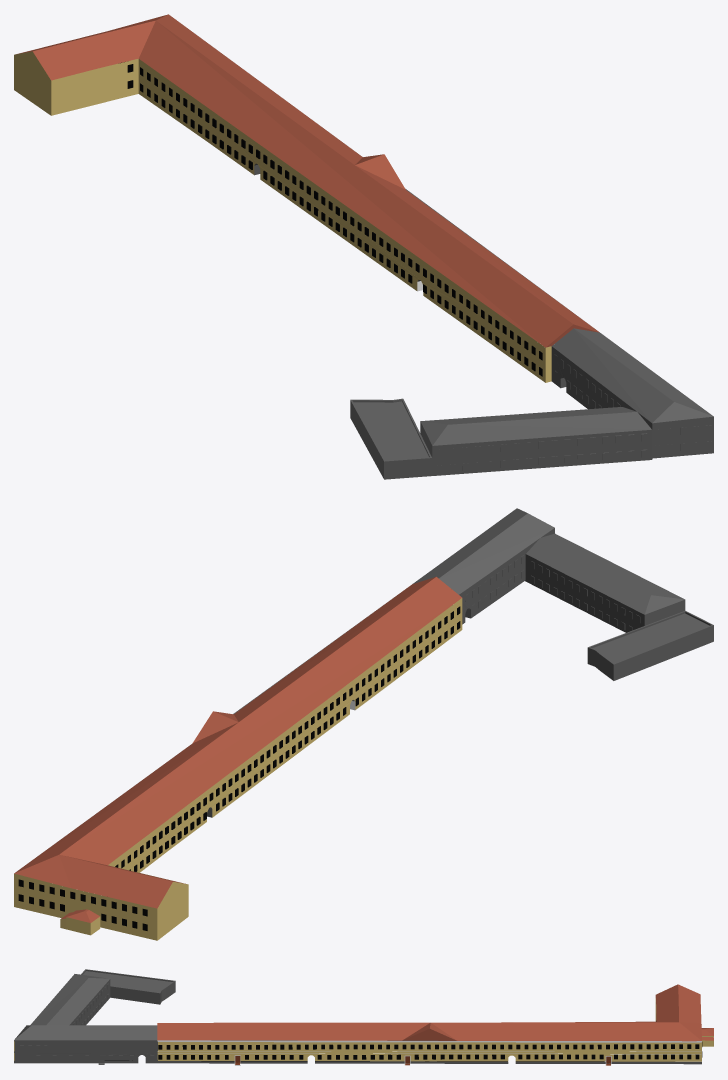
File: prismest.gltf
The picture shows the model from 3 angles, top to bottom: view 1: azimuth 30°, elevation 25°; view 2: azimuth 150°, elevation 25°; view 3: azimuth 270°, elevation 25°; orthographic projection. The views are drawn at different scales.
Visible parts, largest first — view 1: Base, Base 2, Base.002, Windows Back, Windows Front 2; view 2: Base, Base 2, Base.002, Windows Back, Windows Side 2, Windows Side, Base.001; view 3: Base, Windows Front, Base 2, Base.002, Windows Side 2, Base.001.
Part boxes in pixels (left/top/right/bottom): Base: left=14, top=14, right=713, bottom=458; Base 2: left=420, top=407, right=652, bottom=475; Base.002: left=350, top=398, right=432, bottom=479; Windows Back: left=140, top=67, right=542, bottom=376; Windows Front 2: left=436, top=433, right=647, bottom=472; Base: left=14, top=508, right=554, bottom=940; Base 2: left=525, top=533, right=685, bottom=632; Base.002: left=587, top=610, right=713, bottom=680; Windows Back: left=115, top=606, right=460, bottom=871; Windows Side 2: left=530, top=561, right=640, bottom=631; Windows Side: left=18, top=879, right=147, bottom=930; Base.001: left=60, top=909, right=100, bottom=935; Base: left=14, top=984, right=701, bottom=1064; Windows Front: left=20, top=1044, right=699, bottom=1059; Base 2: left=30, top=974, right=110, bottom=1025; Base.002: left=81, top=969, right=175, bottom=1004; Windows Side 2: left=73, top=983, right=108, bottom=1025; Base.001: left=701, top=1028, right=713, bottom=1046.
Bounding box in the file's own units: 77.63 × 15.15 × 267.
